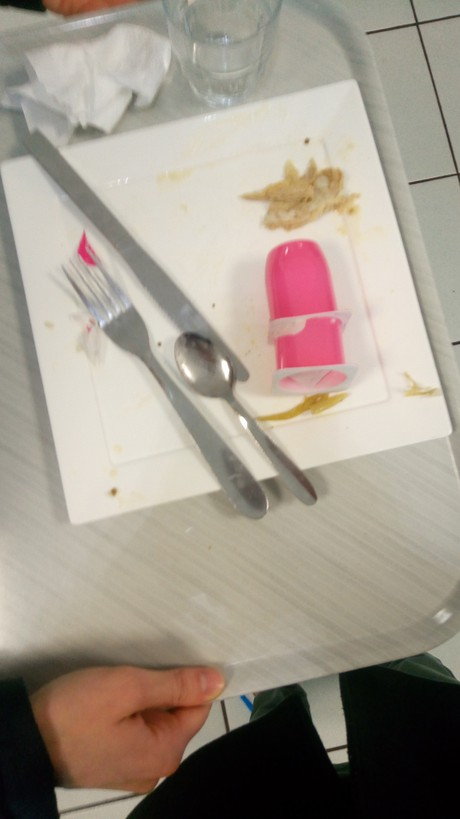cup: (153, 1, 306, 103)
cutlery: (61, 250, 273, 527), (179, 332, 329, 534)
orga: (251, 163, 361, 235)
trash: (20, 44, 163, 144), (257, 252, 360, 385)
